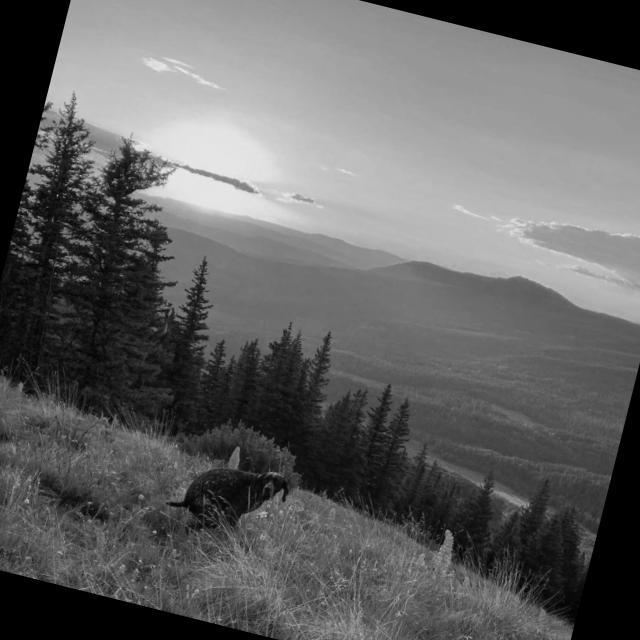squatting: (156, 440, 302, 557)
